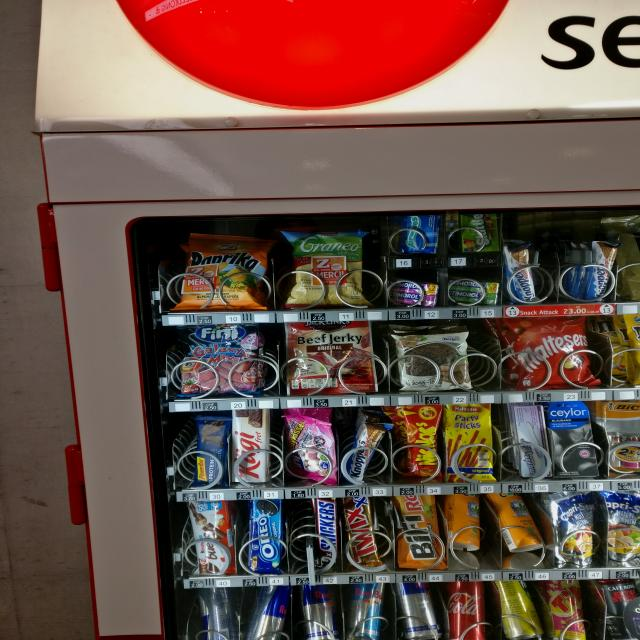airwaves_menthoneucalyptus_riegel_14_1_50173167: (399, 210, 441, 252)
bifi_roll__50__4251097402635: (394, 494, 444, 569)
bueno___43__4008400320328: (186, 499, 234, 574)
c-swiss_dosenabisicetea__33__9120025930135: (488, 491, 548, 553), (441, 492, 491, 556)
caferoyal_classicmacchiato__33__7617014164487: (592, 577, 640, 634)
caprisun_multivitamin__20__4000177605004: (551, 491, 599, 564), (602, 489, 640, 554)
coke__dose_33__54491472: (445, 580, 493, 640)
fini_galaxymix_packung_100_1_8410525150364: (180, 322, 265, 397)
fini_jellykisses_packung_80_1_8410525116704: (285, 412, 340, 487)
fuse_lemon_dose_33__5449000235947: (494, 578, 548, 638)
jacklinks_beefjerkyorginal__25__4047751730219: (282, 322, 378, 393)
kagi___50__7610046000259: (229, 405, 271, 485)
knoppers_riegel____4035800488808: (342, 419, 394, 486), (501, 241, 547, 306), (580, 239, 617, 302)
lorenz_nicnacs__40__4018077798818: (401, 404, 442, 482)
malburner_partysticks__40__7610200279682: (438, 403, 498, 481)
maltesers___100__5000159023061: (502, 316, 605, 388)
oreo___66__84100733: (245, 498, 286, 572)
powerbar_proteinplusschoko__55__4029679520028: (192, 416, 228, 489)
redbull___33__90162909: (396, 582, 446, 640), (244, 586, 294, 640), (344, 583, 392, 639), (296, 585, 343, 640), (194, 588, 238, 640)
skittles_sour_riegel_51_1_0000000000004: (462, 210, 498, 254)
snickers___50__5000159461122: (312, 495, 346, 571)
stimorol_spearmint_riegel_14_1_0000000000005: (446, 276, 502, 306)
stimorol_wildcherry_riegel_14_1_57060330: (390, 279, 437, 307)
tiki_himbeer_brause__50__00000000009342: (545, 579, 589, 640)
twix___50__5000159459228: (342, 497, 385, 569)
zweifel_graneochilli__100__7610095184009: (276, 226, 369, 308)
zweifel_paprika__90__7610095013002: (176, 232, 268, 310)
